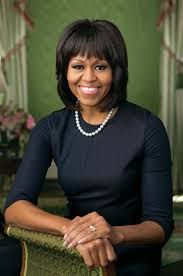person: (53, 20, 126, 108)
